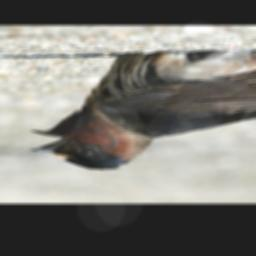Swallow: (26, 48, 256, 171)
